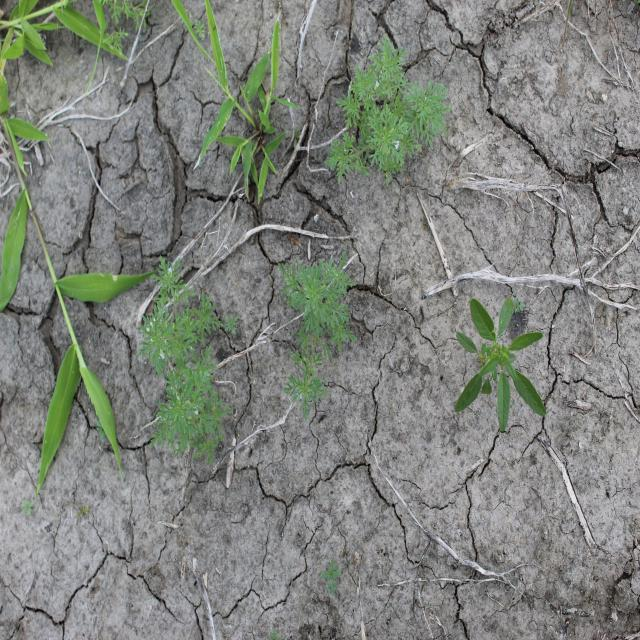Ragweed: (136, 253, 241, 470), (323, 36, 452, 187), (277, 249, 359, 424), (97, 2, 157, 57)
Waterhemp: (452, 296, 548, 434)
